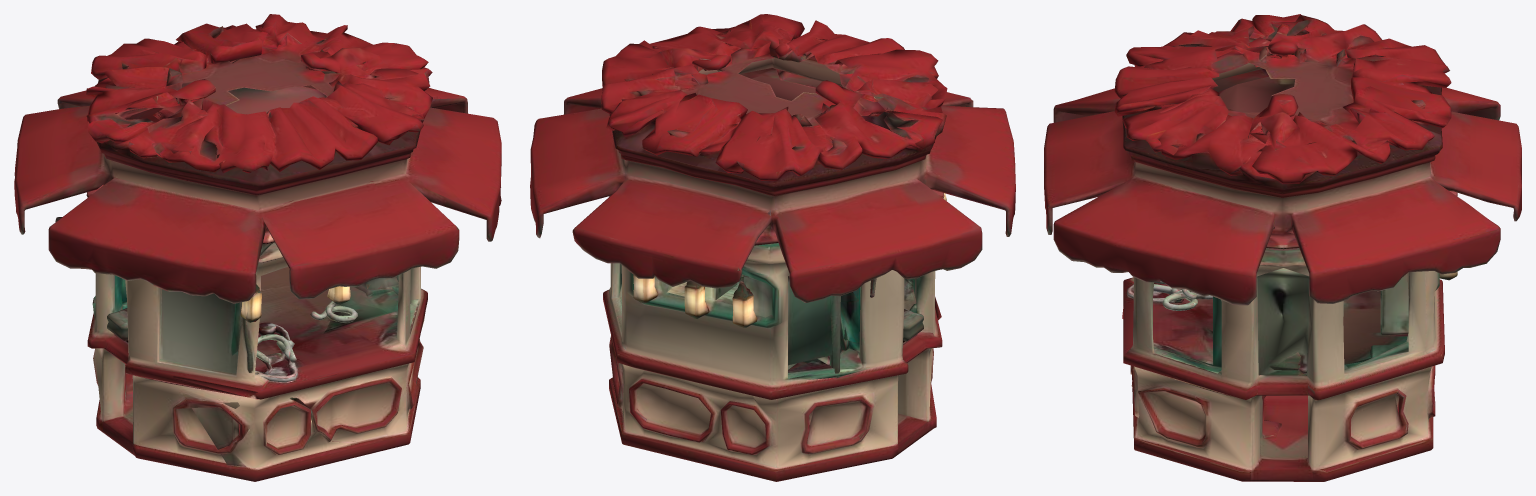
Rendered from tea-house.glb.
The picture shows the model from 3 angles, left to right: view 1: azimuth 30°, elevation 25°; view 2: azimuth 150°, elevation 25°; view 3: azimuth 270°, elevation 25°; orthographic projection.
Parts seen in each view (by area): view 1: mesh_node; view 2: mesh_node; view 3: mesh_node.
Boxes of the visible parts, box(x1,y1,x2,y2) form: mesh_node: box(14, 14, 501, 481); mesh_node: box(530, 14, 1015, 481); mesh_node: box(1044, 14, 1521, 481).
Size of the model in its own units: 1.91 by 1.39 by 1.75.
Materials: 1 (1 with a texture image).
